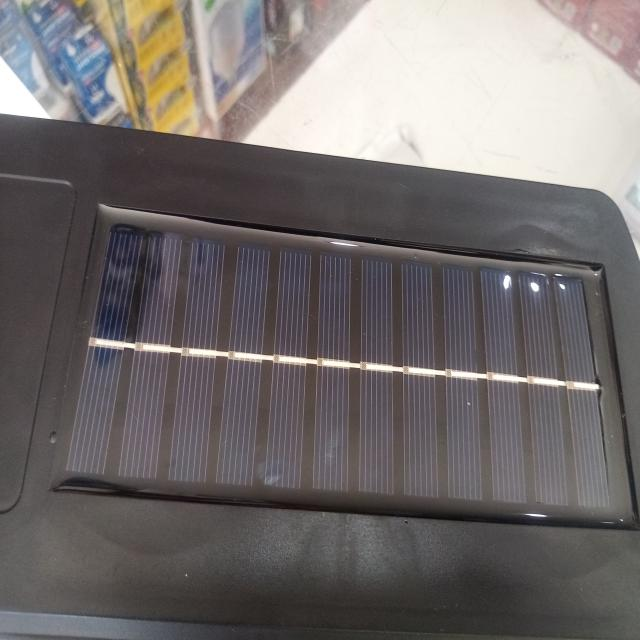no faulty: (60, 215, 614, 515)
